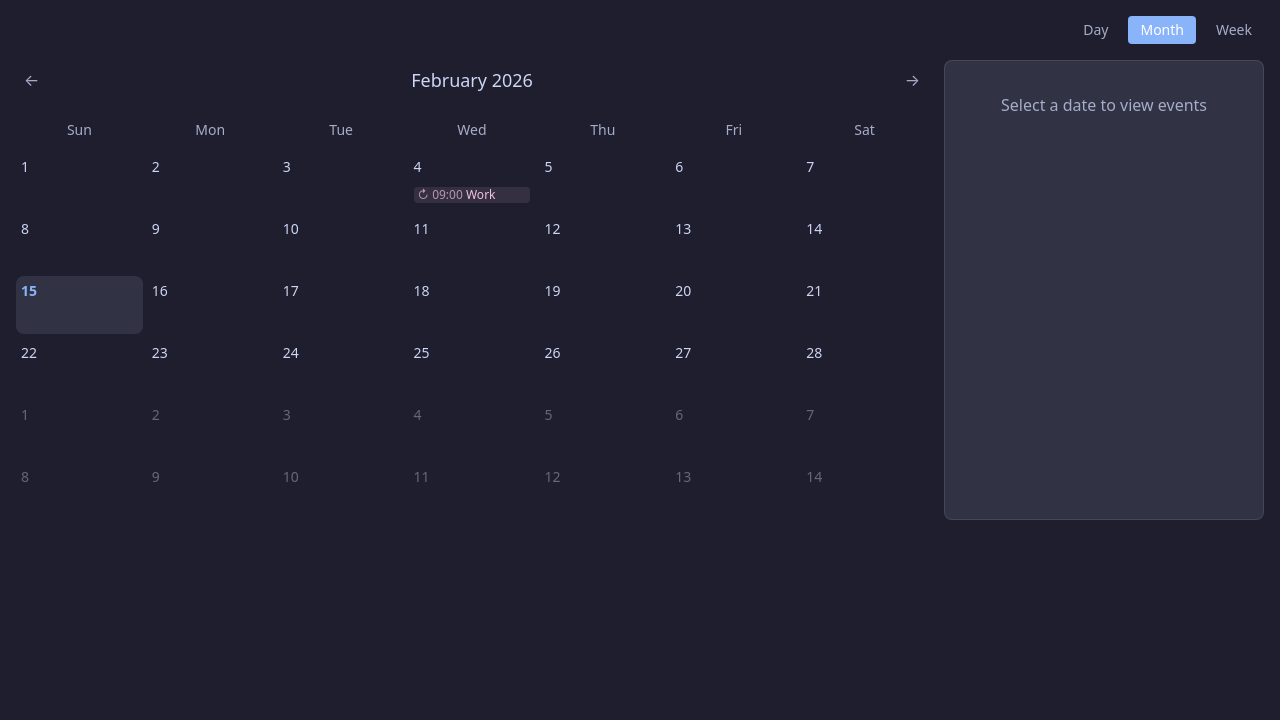
Scenario: recurring occurrences › opens the details modal from a month cell
Click the button "↻ 09:00 Work": coordinates (472, 195) [414,187,530,203]
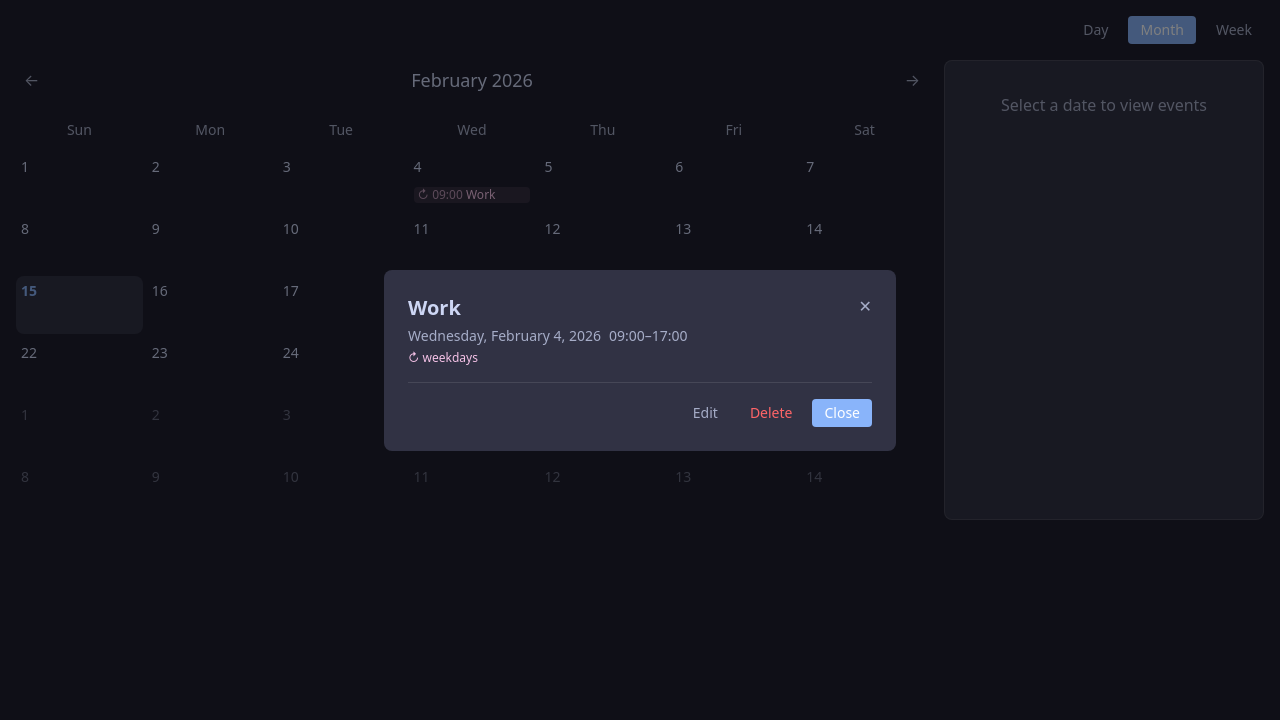
Expected: the text "weekdays" is shown, [423,348,478,366]
